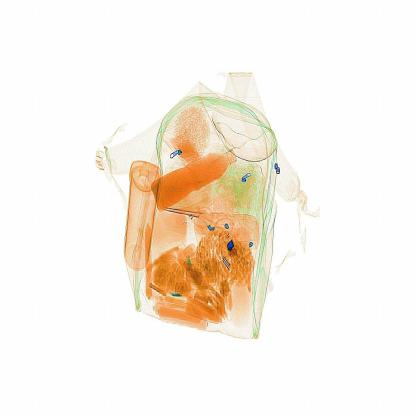wrench: (218, 231, 241, 266)
